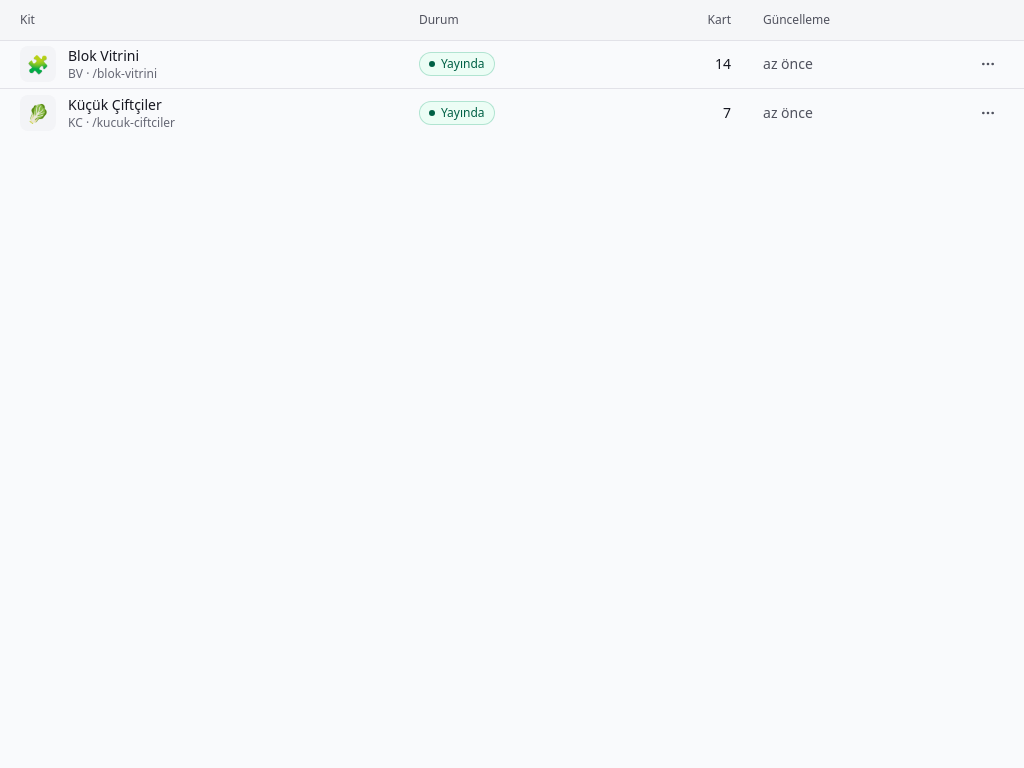
Scenario: KitsTable › when the backend refuses › reports a failed copy
This screenshot has width=1024, height=768.
Step 1. Click the button named "Blok Vitrini için işlemler" → (988,64), box [972,48,1004,80]
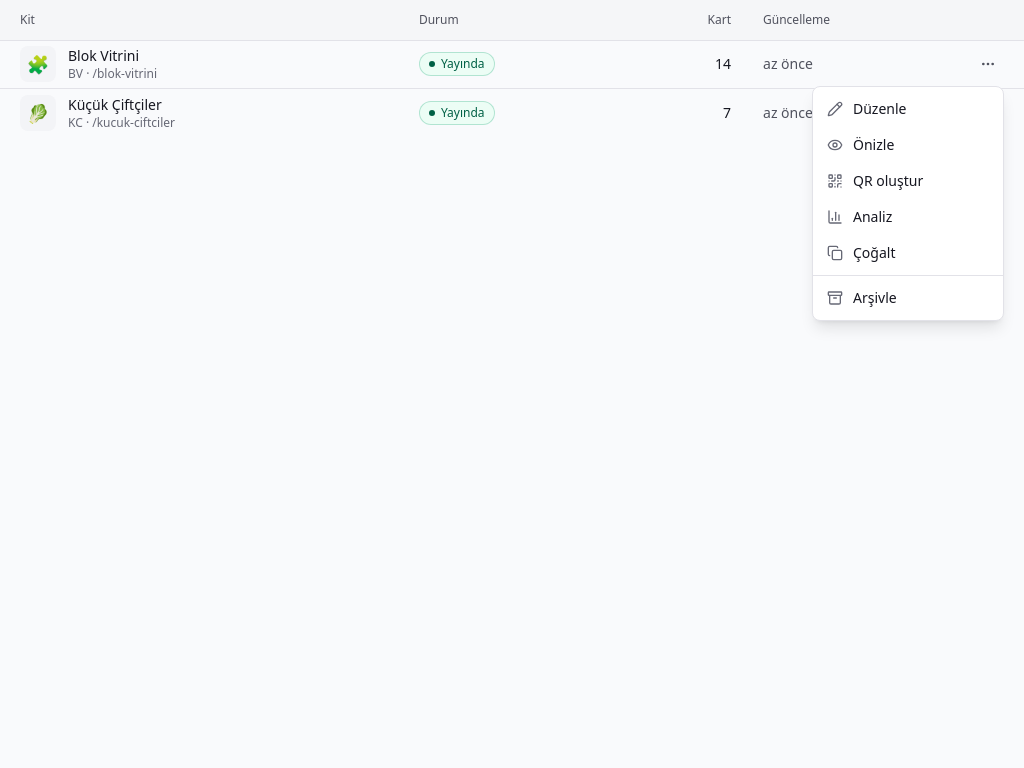
Step 2. Click the menu item "Çoğalt" → (861,252), box [827,243,896,262]
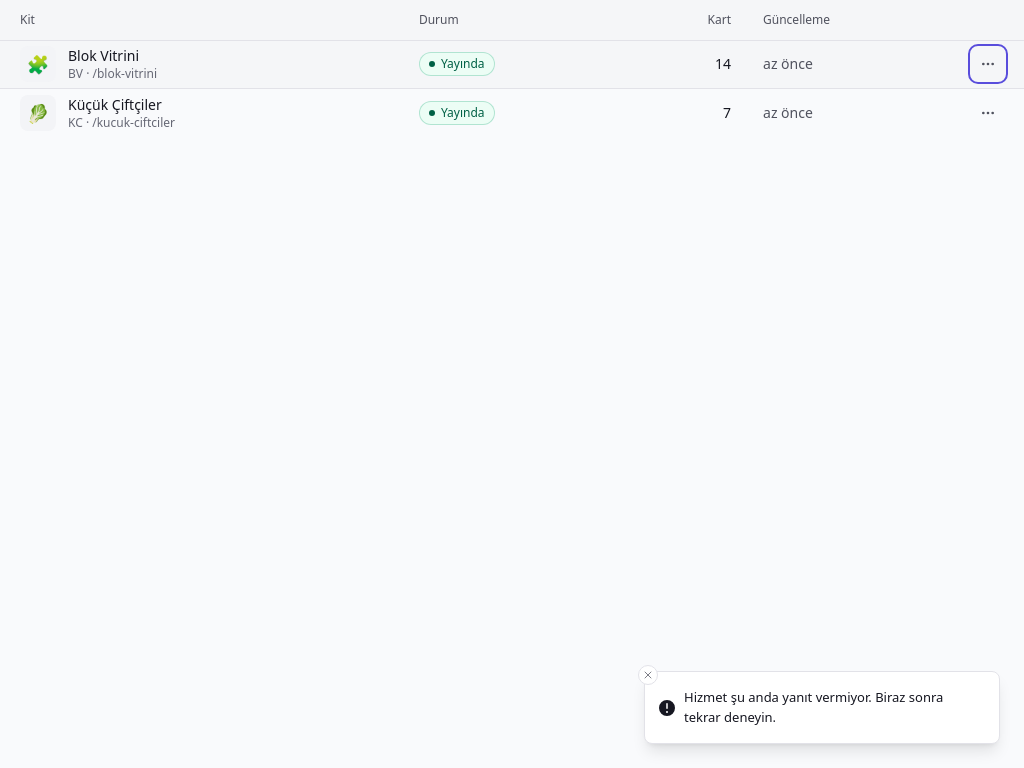
Expected: the text "Hizmet şu anda yanıt vermiyor. Biraz sonra tekrar deneyin." is shown, [684,688,983,727]
